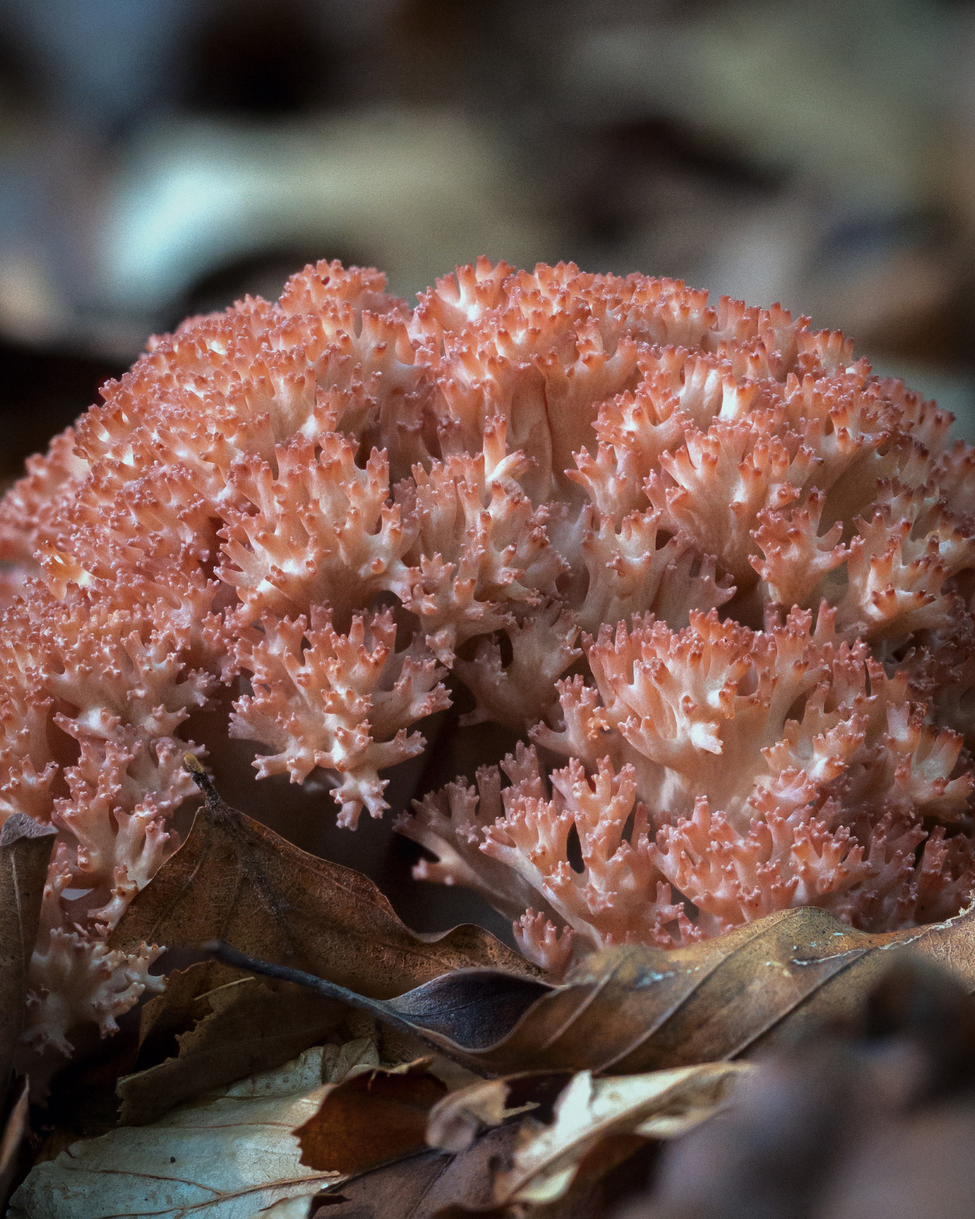Coral: (0, 257, 974, 1095)
